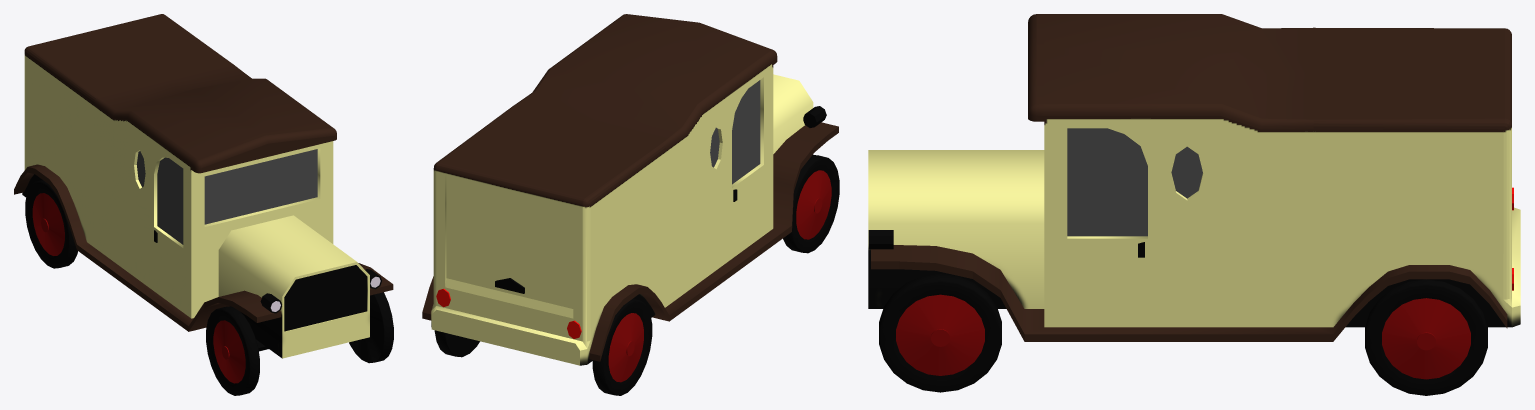
The model's file is TESTCAR.dae.
The picture shows the model from 3 angles, left to right: view 1: azimuth 30°, elevation 25°; view 2: azimuth 150°, elevation 25°; view 3: azimuth 270°, elevation 25°; orthographic projection. The views are drawn at different scales.
Parts seen in each view (by area): view 1: CHASSIS, WHEELSFR, WHEELSRR, WHEELSFL; view 2: CHASSIS, DOORL, DOORR, WHEELSRR, WHEELSFR, WHEELSRL, LIGHT; view 3: CHASSIS, WHEELSFL, WHEELSRL.
Boxes of the visible parts, x1=… form: CHASSIS: x1=14, y1=14, x2=393, y2=358; WHEELSFR: x1=206, y1=306, x2=259, y2=395; WHEELSRR: x1=25, y1=180, x2=77, y2=268; WHEELSFL: x1=349, y1=292, x2=393, y2=363; CHASSIS: x1=422, y1=14, x2=838, y2=365; DOORL: x1=446, y1=175, x2=510, y2=293; DOORR: x1=509, y1=190, x2=573, y2=308; WHEELSRR: x1=592, y1=299, x2=652, y2=395; WHEELSFR: x1=783, y1=155, x2=839, y2=253; WHEELSRL: x1=434, y1=330, x2=479, y2=357; LIGHT: x1=436, y1=288, x2=581, y2=338; CHASSIS: x1=868, y1=14, x2=1520, y2=341; WHEELSFL: x1=879, y1=273, x2=1001, y2=392; WHEELSRL: x1=1365, y1=279, x2=1487, y2=395.
Bounding box in the file's own units: 1.31 × 3.31 × 1.66.
